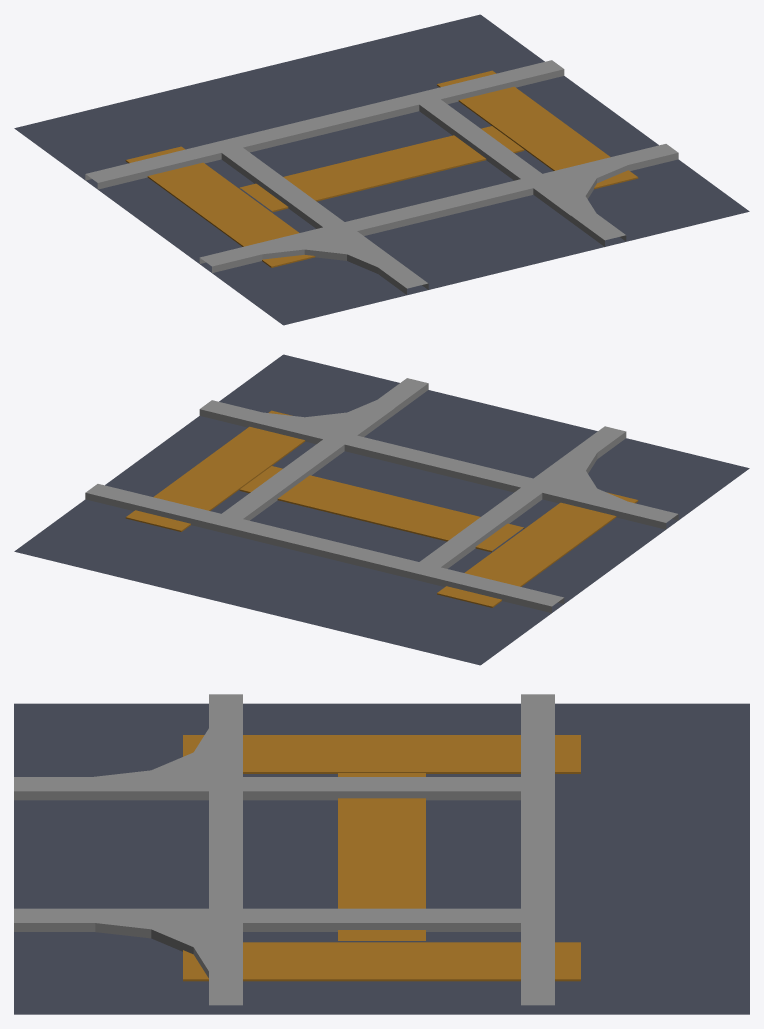
The model's file is Map-Rail-T.fbx.
3 renders of one model, top to bottom at view 1: azimuth 30°, elevation 25°; view 2: azimuth 150°, elevation 25°; view 3: azimuth 270°, elevation 25°, orthographic. The views are drawn at different scales.
Visible parts, largest first — view 1: Map-Rail-T; view 2: Map-Rail-T; view 3: Map-Rail-T.
Boxes of the visible parts, box(x1,y1,x2,y2) form: Map-Rail-T: box(14, 14, 749, 325); Map-Rail-T: box(14, 354, 749, 665); Map-Rail-T: box(14, 694, 749, 1014).
Bounding box in the file's own units: 1.2 × 0.0221 × 1.2.
